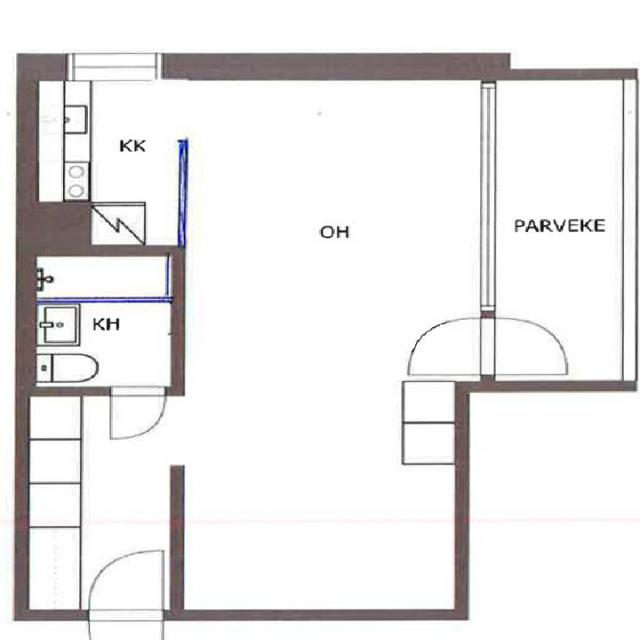door: (88, 550, 162, 620), (480, 317, 568, 374), (408, 317, 495, 374), (110, 386, 166, 438), (88, 609, 162, 640)
